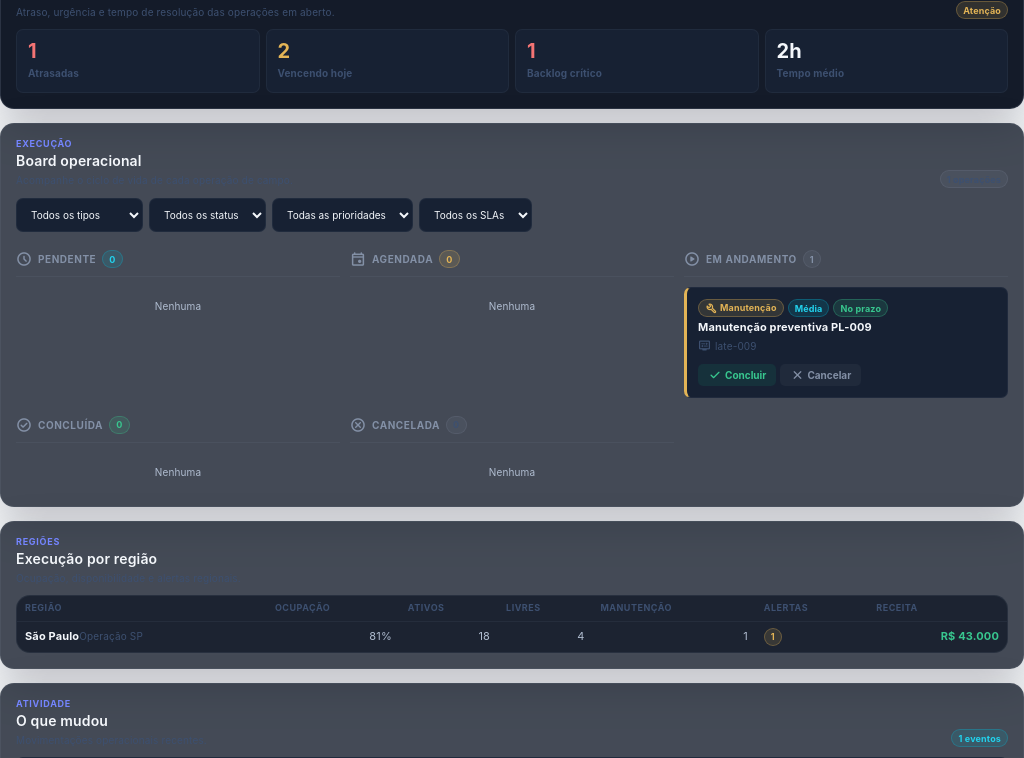
OperationsPage smoke › Conclusão de manutenção › bloqueia a conclusão sem relatório final preenchido
(page scrolled)
What coordinates should you click on to do the following:
click the button "Concluir"
I would click on:
 (737, 374)
Its box is [698,364,776,386].
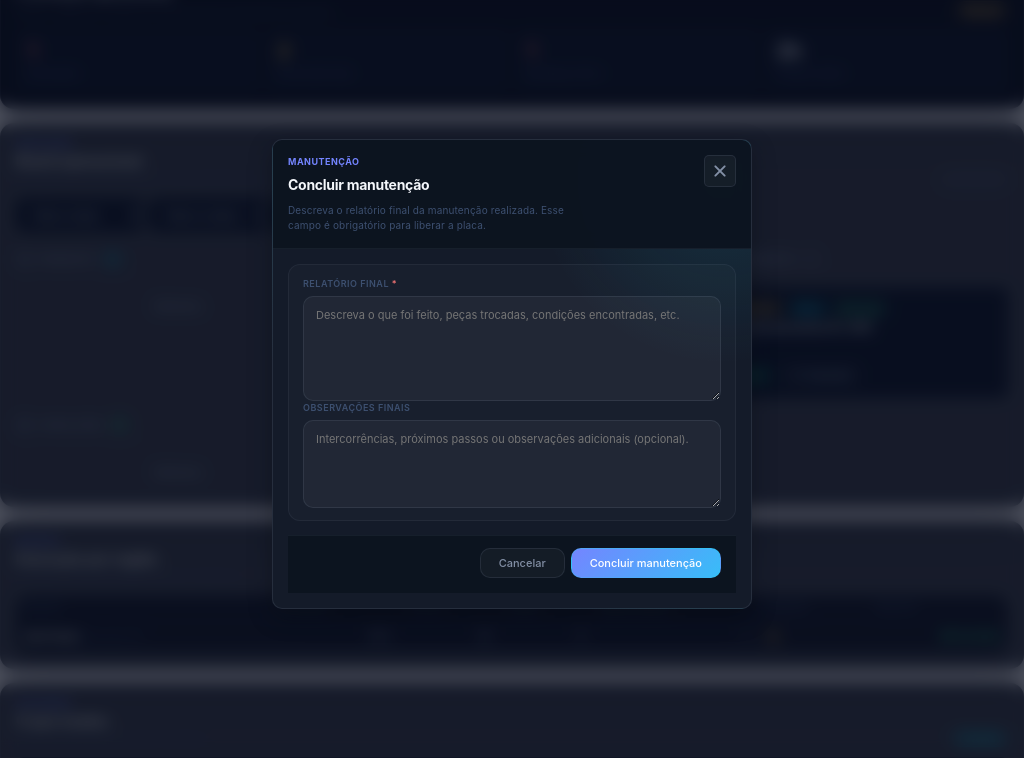
What coordinates should you click on to do the following:
click the button "Concluir manutenção"
I would click on:
 (646, 563)
Its box is [571,548,721,578].
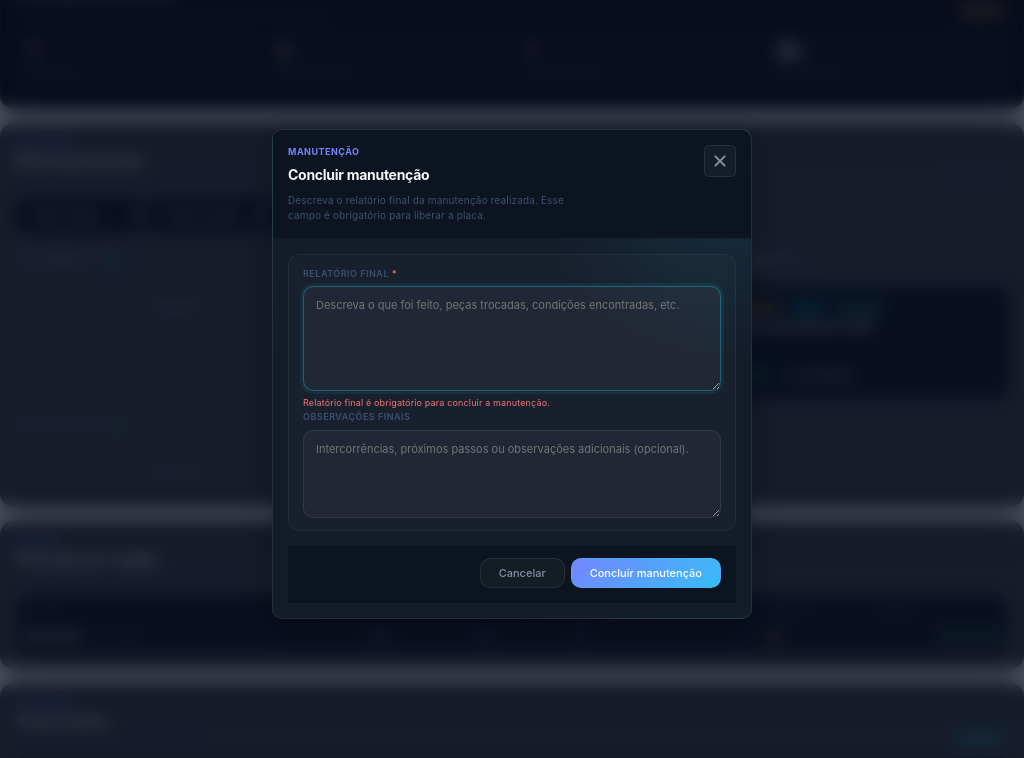
Check: the text "Relatório final é obrigatório para concluir a manutenção." is shown, box [303,397,550,408]
